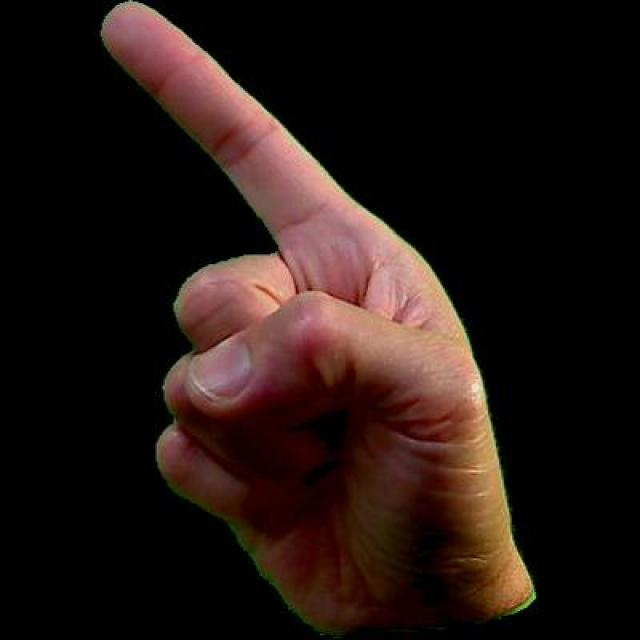z: (75, 0, 536, 637)
